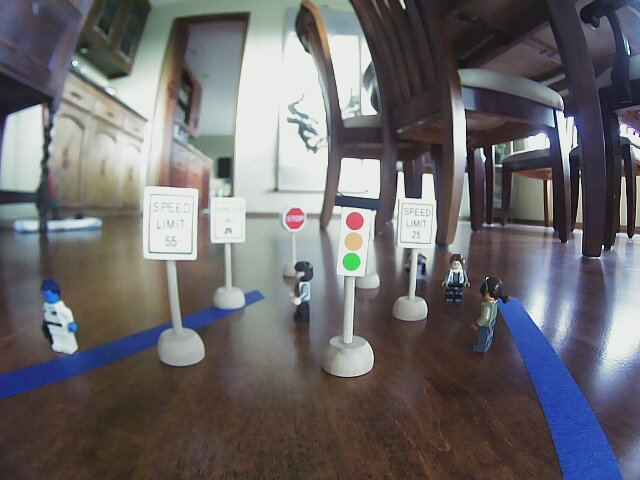SpeedLimit25: (400, 199, 433, 247)
SpeedLimit35: (209, 195, 243, 241)
SpeedLimit55: (142, 185, 195, 258)
StopSign: (280, 205, 306, 233)
TrafficLight: (334, 196, 369, 278)
person: (37, 276, 86, 354), (470, 277, 512, 358), (283, 260, 317, 328), (442, 248, 469, 305)
